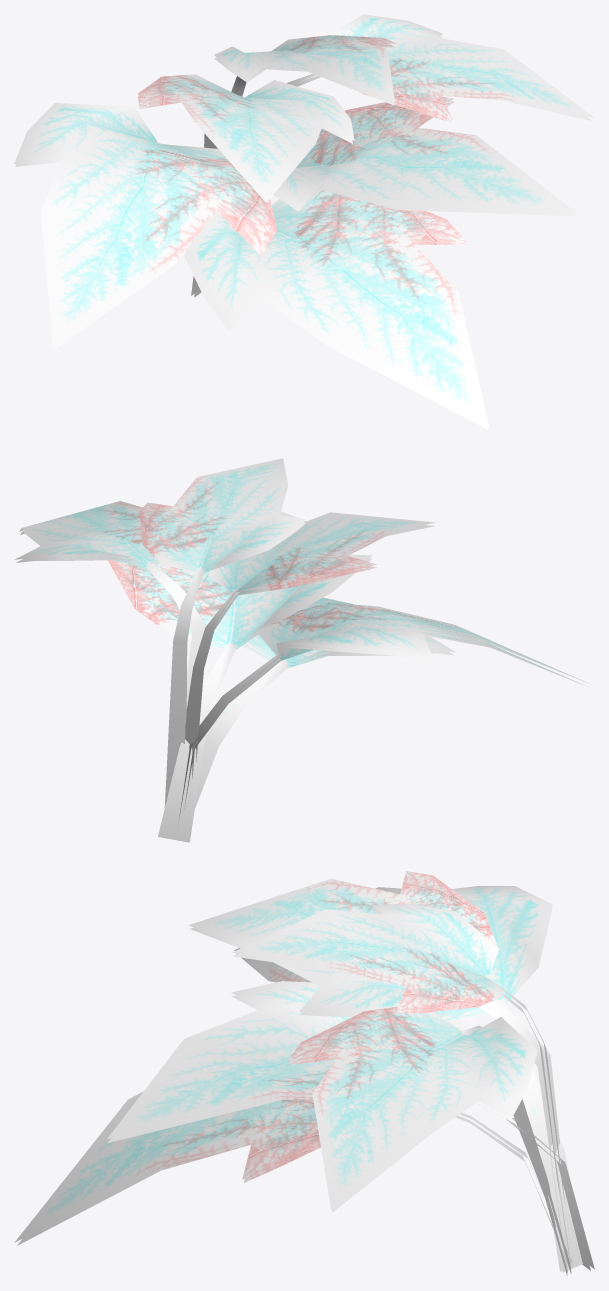
The model's file is pG_leaf_01.fbx.
The picture shows the model from 3 angles, top to bottom: view 1: azimuth 30°, elevation 25°; view 2: azimuth 150°, elevation 25°; view 3: azimuth 270°, elevation 25°; orthographic projection. The views are drawn at different scales.
Visible parts, largest first — view 1: leaf_01; view 2: leaf_01; view 3: leaf_01.
Part boxes in pixels (x1,y1,x2,y2): leaf_01: [14, 14, 593, 429]; leaf_01: [14, 458, 589, 842]; leaf_01: [14, 871, 594, 1275].
Size of the model in its own units: 87.51 by 44.42 by 66.19.
1 material, 1 textured.
